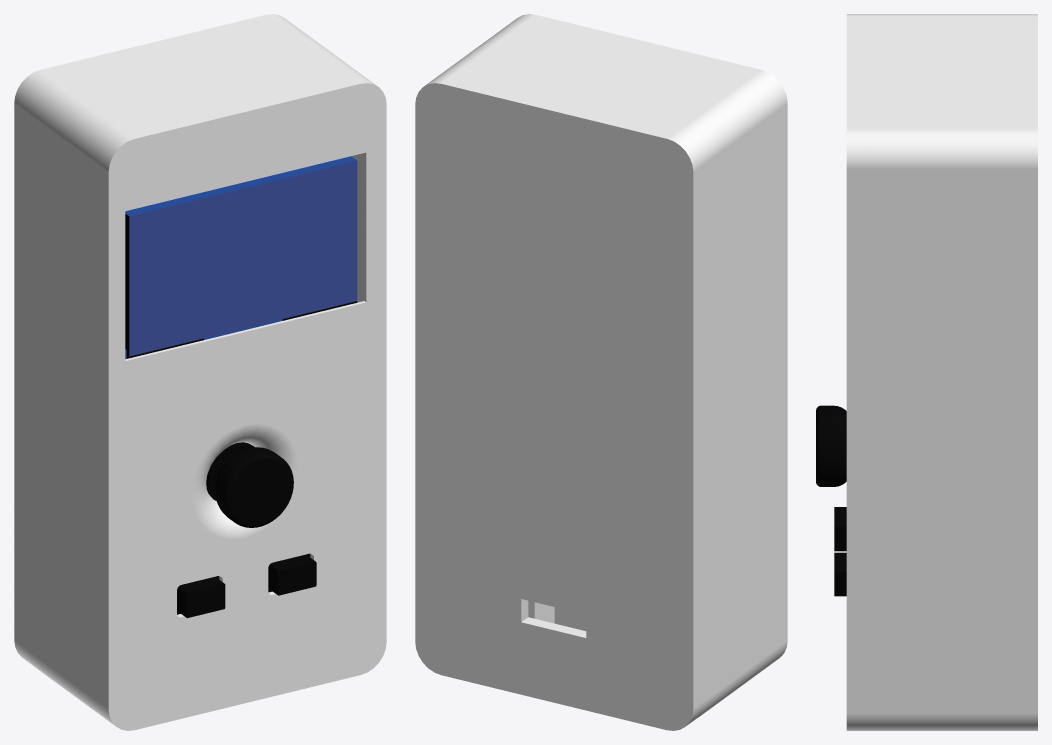
3 renders of one model, left to right at view 1: azimuth 30°, elevation 25°; view 2: azimuth 150°, elevation 25°; view 3: azimuth 270°, elevation 25°, orthographic.
Parts seen in each view (by area): view 1: Case, SSD1306, Cover (1) (1), Joystick (1), ButtonPress, 5D Button; view 2: Cover (1) (1), Case, Body116; view 3: Case, Cover (1) (1), Joystick (1), ButtonPress.
Part boxes in pixels (x1,y1,x2,y2): Case: [27, 23, 386, 730]; SSD1306: [125, 156, 357, 359]; Cover (1) (1): [14, 14, 296, 665]; Joystick (1): [215, 447, 293, 527]; ButtonPress: [177, 553, 316, 618]; 5D Button: [206, 442, 254, 500]; Cover (1) (1): [415, 73, 706, 730]; Case: [437, 14, 787, 717]; Body116: [528, 600, 586, 630]; Case: [846, 14, 1011, 730]; Cover (1) (1): [1011, 14, 1037, 730]; Joystick (1): [816, 405, 846, 486]; ButtonPress: [834, 507, 846, 596].
Size of the model in its own units: 3.2 by 6.5 by 2.18.
